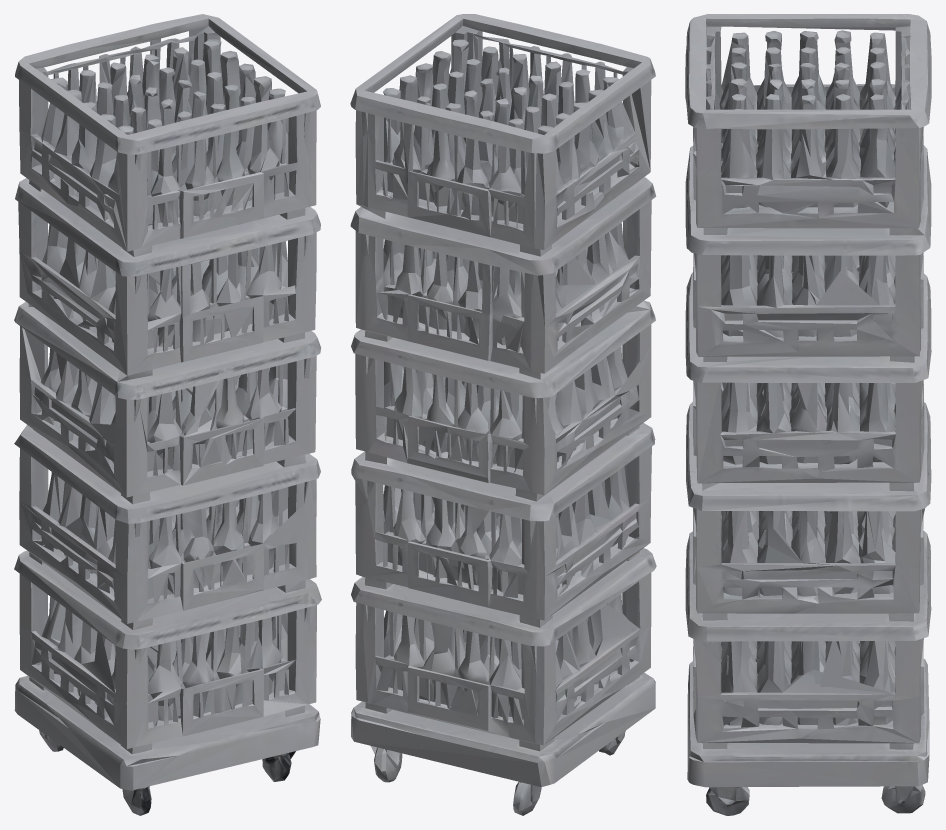
File: srvGlassTower.glb
3 views of the same model, side by side, from view 1: azimuth 30°, elevation 25°; view 2: azimuth 150°, elevation 25°; view 3: azimuth 270°, elevation 25° (orthographic). The views are drawn at different scales.
Bounding box in the file's own units: 0.5863 × 1.9 × 0.5916.
Materials: 1 (1 with a texture image).
